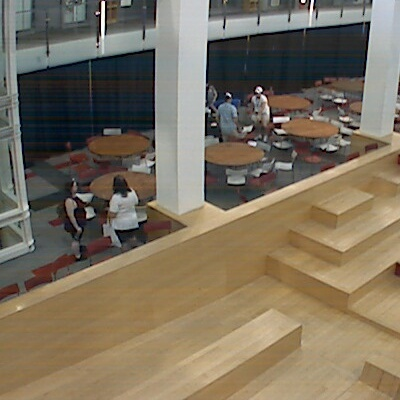head: (108, 175, 132, 193), (63, 176, 81, 193), (220, 91, 237, 106), (252, 84, 267, 98)
